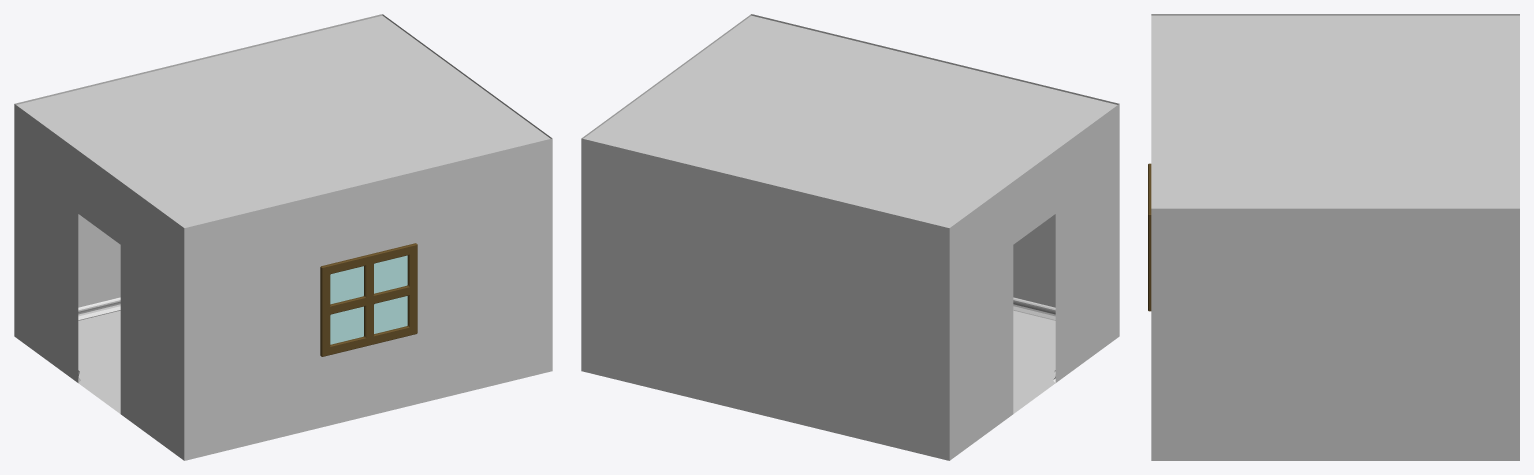
File: RoomBase.fbx
3 views of the same model, side by side, from view 1: azimuth 30°, elevation 25°; view 2: azimuth 150°, elevation 25°; view 3: azimuth 270°, elevation 25° (orthographic). The views are drawn at different scales.
Parts seen in each view (by area): view 1: Window Wall, Roof, Door Wall, Windowframe, WindowPane, notWindow Wall, Floor, trim; view 2: notWindow Wall, Roof, Door Wall, Window Wall, Floor, trim; view 3: BackWall, Roof, Door Wall, Windowframe.
Part boxes in pixels (bbox=[...]): Window Wall: bbox=[184, 138, 552, 460]; Roof: bbox=[16, 15, 550, 227]; Door Wall: bbox=[14, 104, 184, 460]; Windowframe: bbox=[320, 243, 417, 356]; WindowPane: bbox=[330, 255, 407, 344]; notWindow Wall: bbox=[14, 14, 382, 307]; Floor: bbox=[78, 310, 120, 413]; trim: bbox=[78, 297, 120, 382]; notWindow Wall: bbox=[581, 138, 949, 460]; Roof: bbox=[583, 15, 1117, 227]; Door Wall: bbox=[949, 104, 1119, 460]; Window Wall: bbox=[751, 14, 1119, 307]; Floor: bbox=[1013, 310, 1055, 413]; trim: bbox=[1013, 297, 1055, 382]; BackWall: bbox=[1151, 208, 1519, 460]; Roof: bbox=[1151, 15, 1519, 208]; Door Wall: bbox=[1151, 14, 1519, 15]; Windowframe: bbox=[1148, 163, 1151, 311].
Size of the model in its own units: 500 by 302 by 403.
